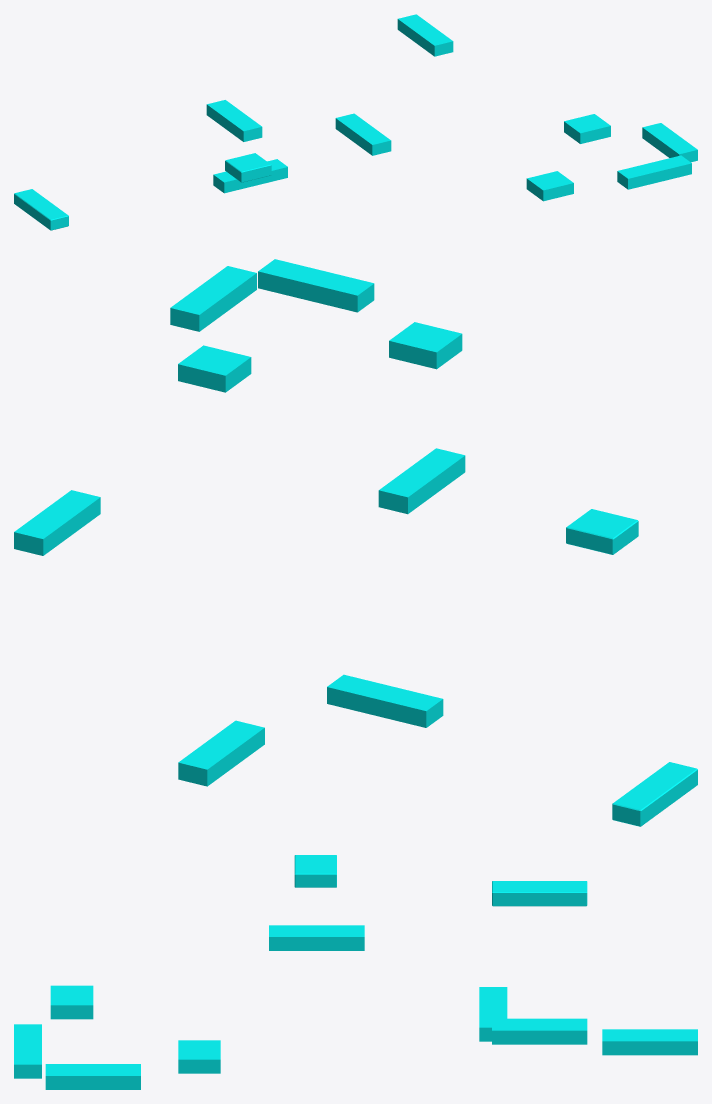
File: VEGETATION.fbx
3 views of the same model, one above another, from view 1: azimuth 30°, elevation 25°; view 2: azimuth 150°, elevation 25°; view 3: azimuth 270°, elevation 25° (orthographic). The views are drawn at different scales.
Parts seen in each view (by area): view 1: polySurface1113, polySurface1112, polySurface1114, polySurface1116, polySurface1016, polySurface1111, polySurface1110, polySurface1109, polySurface991, polySurface1115; view 2: polySurface1115, polySurface1113, polySurface1114, polySurface1111, polySurface1112, polySurface1116, polySurface1016, polySurface1109, polySurface1110, polySurface991; view 3: polySurface1116, polySurface1112, polySurface1111, polySurface1114, polySurface1016, polySurface1113, polySurface1110, polySurface1109, polySurface991, polySurface1115.
Boxes of the visible parts, <box> form: polySurface1113: <box>617,155,691,189</box>; polySurface1112: <box>397,14,453,56</box>; polySurface1114: <box>335,113,391,155</box>; polySurface1116: <box>206,100,262,141</box>; polySurface1016: <box>14,189,68,230</box>; polySurface1111: <box>642,123,697,162</box>; polySurface1110: <box>526,171,573,201</box>; polySurface1109: <box>564,114,610,143</box>; polySurface991: <box>225,153,271,182</box>; polySurface1115: <box>213,159,287,193</box>; polySurface1115: <box>327,674,443,727</box>; polySurface1113: <box>258,259,374,312</box>; polySurface1114: <box>378,448,465,514</box>; polySurface1111: <box>170,266,256,331</box>; polySurface1112: <box>14,490,100,555</box>; polySurface1116: <box>178,720,264,786</box>; polySurface1016: <box>612,762,697,826</box>; polySurface1109: <box>178,345,251,392</box>; polySurface1110: <box>389,322,462,369</box>; polySurface991: <box>566,509,638,554</box>; polySurface1116: <box>602,1029,697,1055</box>; polySurface1112: <box>492,1018,587,1044</box>; polySurface1111: <box>45,1064,140,1089</box>; polySurface1114: <box>269,925,364,950</box>; polySurface1016: <box>492,881,587,906</box>; polySurface1113: <box>14,1024,41,1078</box>; polySurface1110: <box>50,985,93,1019</box>; polySurface1109: <box>178,1040,220,1073</box>; polySurface991: <box>294,855,336,887</box>; polySurface1115: <box>479,987,507,1041</box>.
Size of the model in its own units: 6.37 by 1.18 by 6.15.
